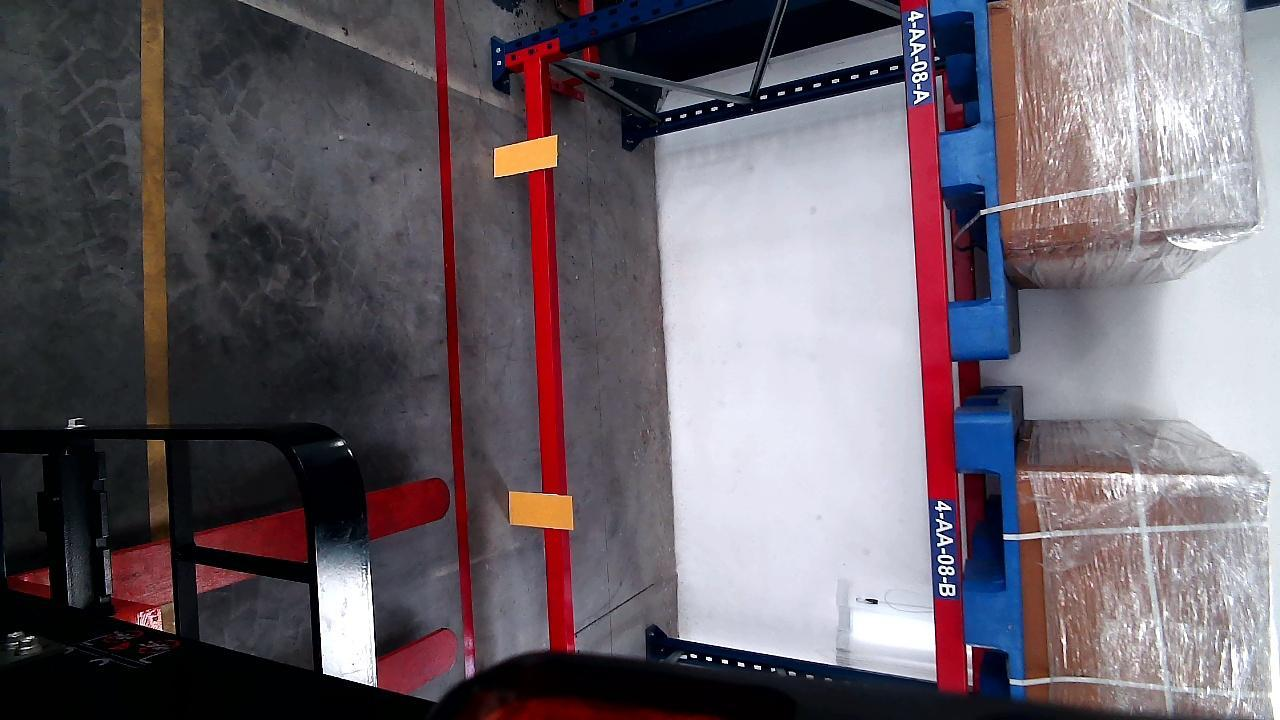red_line: (432, 2, 477, 677)
yellow_line: (139, 0, 169, 520)
